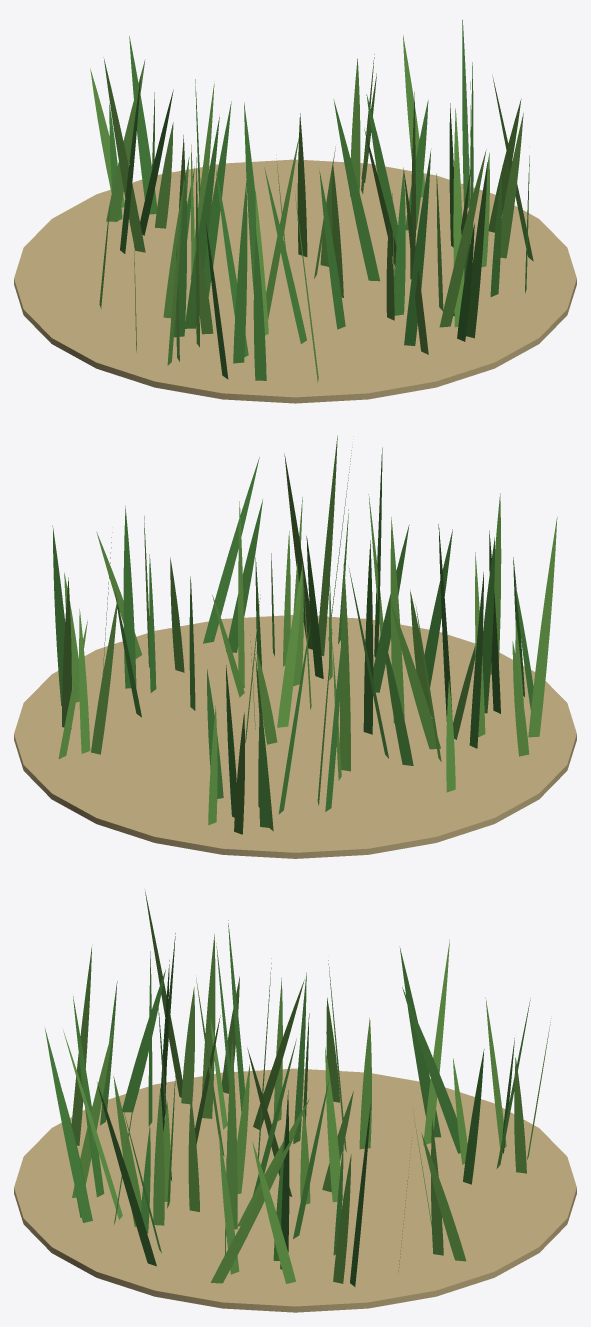
File: seagrass.glb
The picture shows the model from 3 angles, top to bottom: view 1: azimuth 30°, elevation 25°; view 2: azimuth 150°, elevation 25°; view 3: azimuth 270°, elevation 25°; orthographic projection.
Visible parts, largest first — view 1: Seagrass; view 2: Seagrass; view 3: Seagrass.
Boxes of the visible parts, x1,y1,x2,y2 form: Seagrass: (14,19,576,403); Seagrass: (14,435,576,858); Seagrass: (14,890,576,1312).
Bounding box in the file's own units: 2.5 × 1.1 × 2.5.
